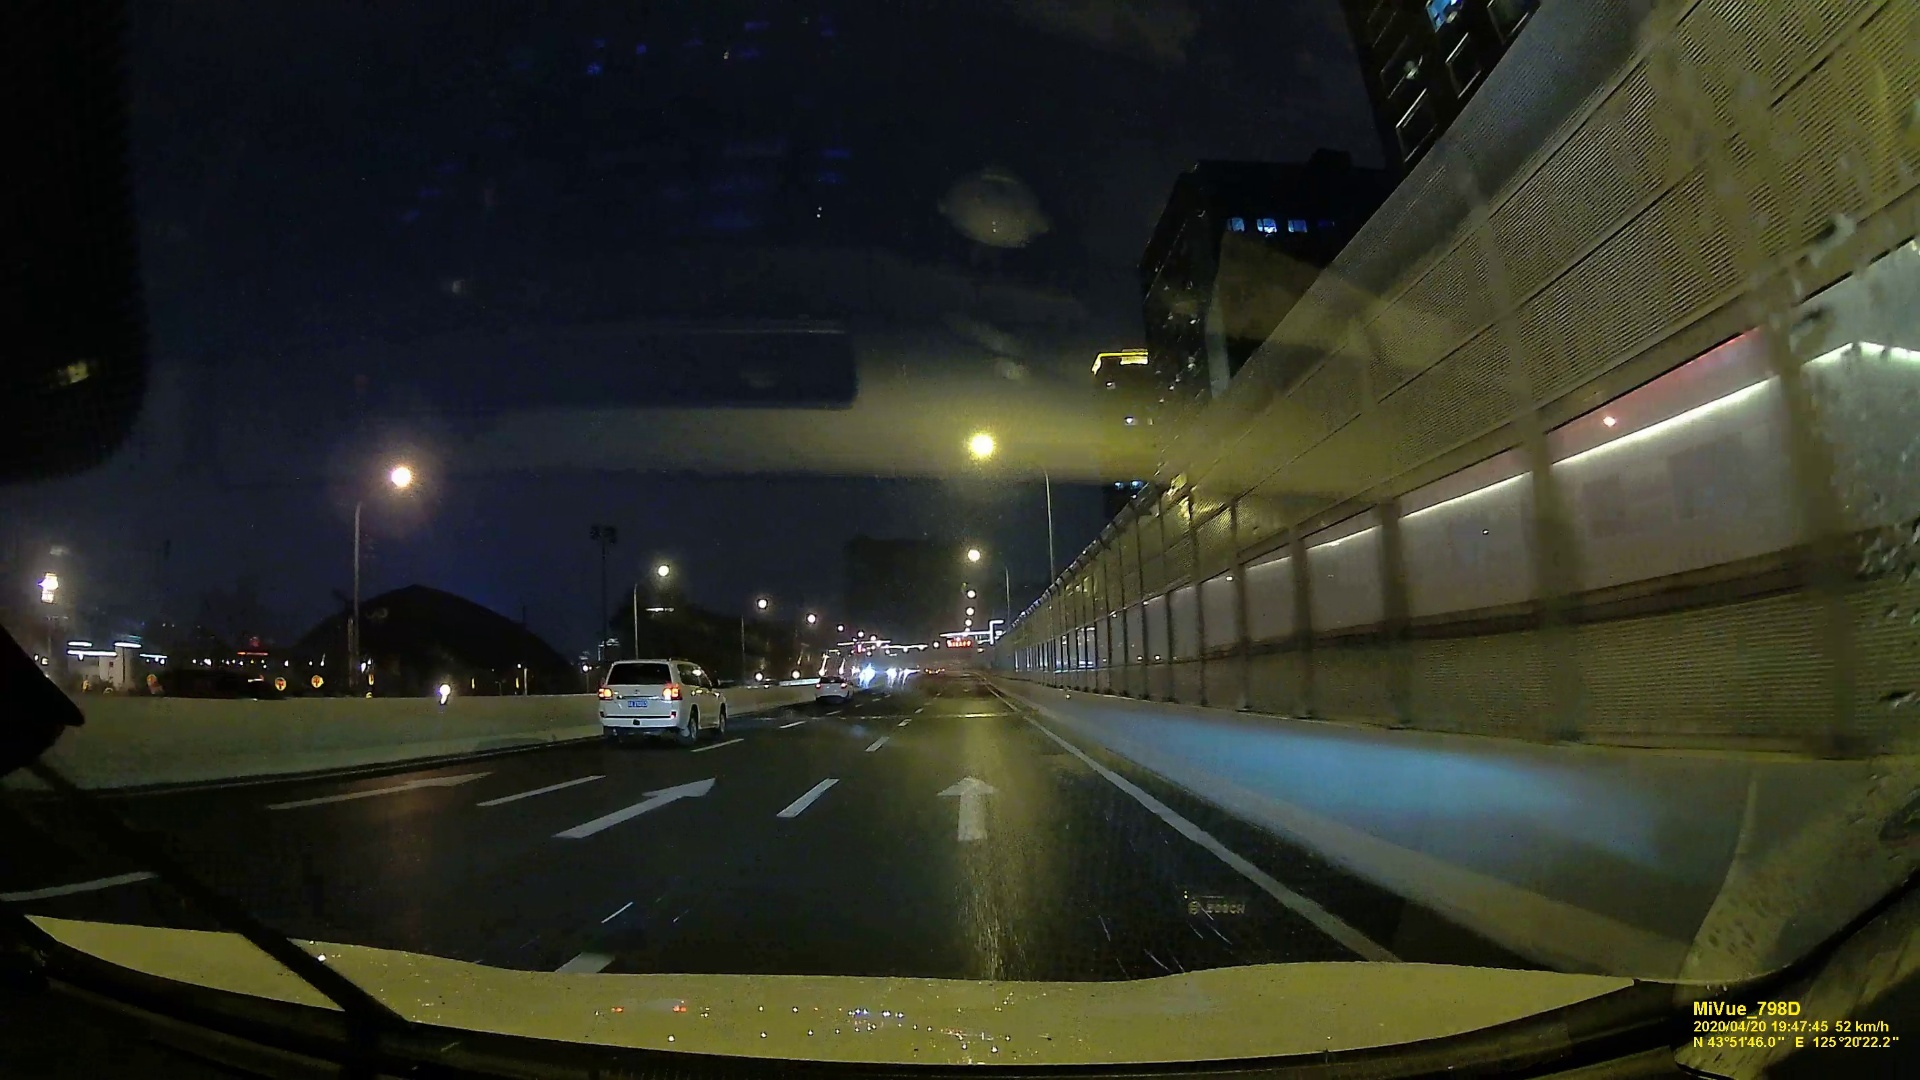vehicle: (593, 655, 731, 742), (816, 673, 851, 703)
